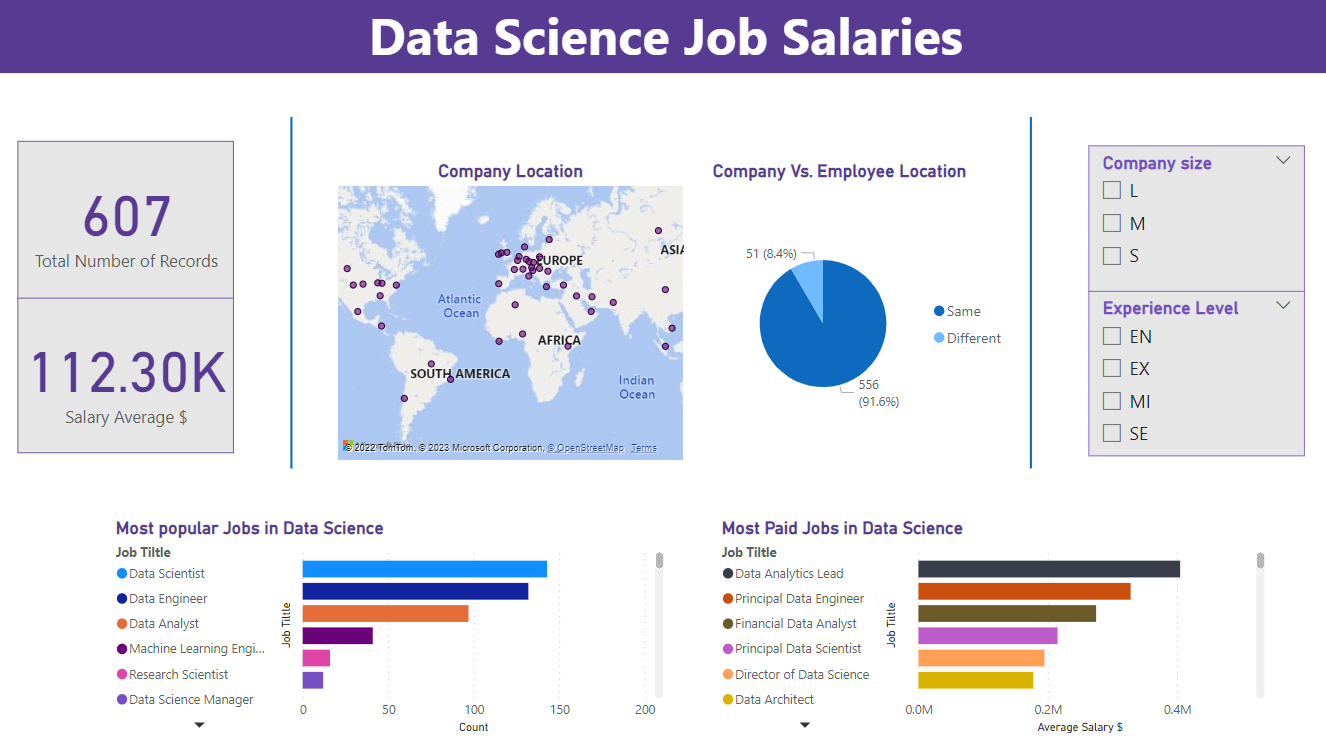

The page's visual inventory and layout, read from the dashboard file:
{"tool":"powerbi","page":{"name":"Page 1","canvas":[1280,720],"ordinal":0},"visuals":[{"type":"textbox","box":[0,0,1279.4,75.6],"z":0},{"type":"card","fields":{"Values":["Avg(ds_salaries.salary_in_usd)"]},"box":[18.2,289.2,205.9,148.4],"z":1000},{"type":"card","fields":{"Values":["CountNonNull(ds_salaries.salary_in_usd)"]},"box":[18.2,139.8,205.9,149.9],"z":2000},{"type":"barChart","title":"Most Paid Jobs in Data Science","fields":{"Category":["ds_salaries.job_title"],"Y":["Avg(ds_salaries.salary_in_usd)"],"Series":["ds_salaries.job_title"]},"box":[684.4,498.2,526.9,210.5],"z":3000},{"type":"barChart","title":"Most popular Jobs in Data Science","fields":{"Category":["ds_salaries.job_title"],"Y":["CountNonNull(ds_salaries.job_title)"],"Series":["ds_salaries.job_title"]},"box":[107.5,498.2,531.5,210.5],"z":4000},{"type":"pieChart","title":"Company Vs. Employee Location","fields":{"Category":["ds_salaries.comany_employee lacation "],"Y":["CountNonNull(ds_salaries.comany_employee lacation )"]},"box":[675.3,159,293.8,290.7],"z":5000},{"type":"slicer","fields":{"Values":["ds_salaries.company_size"]},"box":[1039.2,143.9,205.9,139.3],"z":6000},{"type":"map","title":"Company Location","fields":{"Category":["ds_salaries.company_location"]},"box":[318,159,339.2,290.7],"z":7000},{"type":"shape","box":[242,117.1,75.7,334.6],"z":8000},{"type":"slicer","fields":{"Values":["ds_salaries.experience_level"]},"box":[1039.2,283.2,205.9,157.5],"z":9000},{"type":"shape","box":[946.4,116.6,75.7,334.6],"z":10000}]}

Visuals, with their boxes in screenshot pixels (x1, y1, x2, y2), scaled from the page's 1280x720 canvas onto the 1326x742 screenshot:
textbox: l=0, t=0, r=1325, b=78
card - Avg(ds_salaries.salary_in_usd): l=19, t=298, r=232, b=451
card - CountNonNull(ds_salaries.salary_in_usd): l=19, t=144, r=232, b=299
"Most Paid Jobs in Data Science" barChart: l=709, t=513, r=1255, b=730
"Most popular Jobs in Data Science" barChart: l=111, t=513, r=662, b=730
"Company Vs. Employee Location" pieChart: l=700, t=164, r=1004, b=463
slicer - ds_salaries.company_size: l=1077, t=148, r=1290, b=292
"Company Location" map: l=329, t=164, r=681, b=463
shape: l=251, t=121, r=329, b=466
slicer - ds_salaries.experience_level: l=1077, t=292, r=1290, b=454
shape: l=980, t=120, r=1059, b=465
